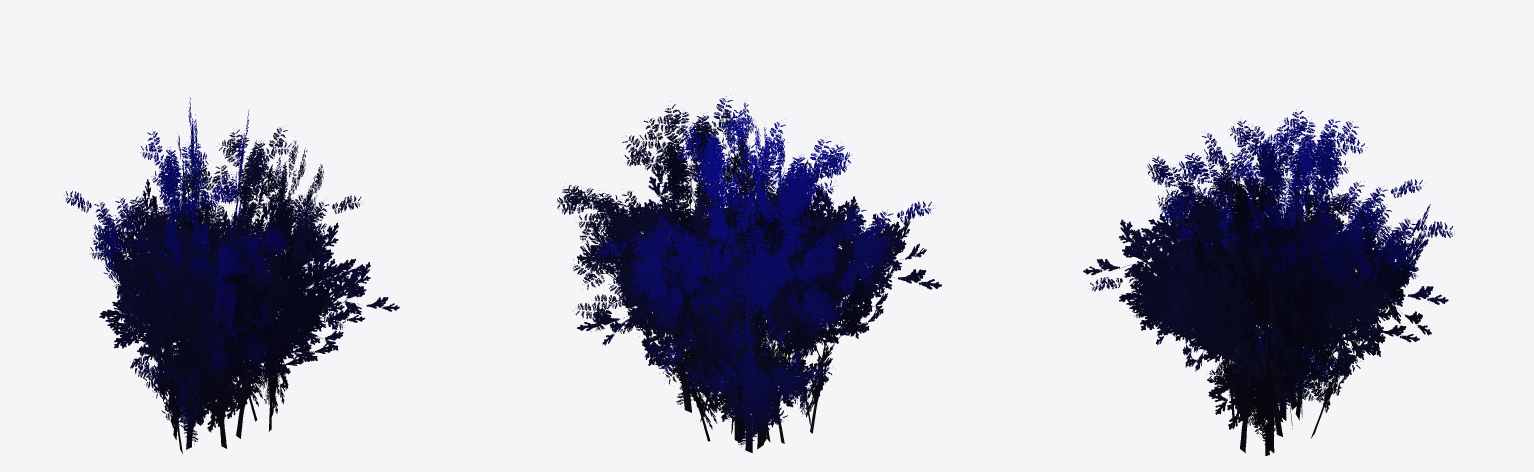
File: SM_Foliage_ShrubTallA_03.fbx
3 renders of one model, left to right at view 1: azimuth 30°, elevation 25°; view 2: azimuth 150°, elevation 25°; view 3: azimuth 270°, elevation 25°, orthographic. The views are drawn at different scales.
Parts seen in each view (by area): view 1: SM_Foliage_ShrubTallA_03; view 2: SM_Foliage_ShrubTallA_03; view 3: SM_Foliage_ShrubTallA_03.
Part boxes in pixels (left/top/right/bottom): SM_Foliage_ShrubTallA_03: left=62, top=97, right=399, bottom=453; SM_Foliage_ShrubTallA_03: left=553, top=95, right=941, bottom=452; SM_Foliage_ShrubTallA_03: left=1083, top=109, right=1454, bottom=455.
Size of the model in its own units: 313 by 337 by 256.
